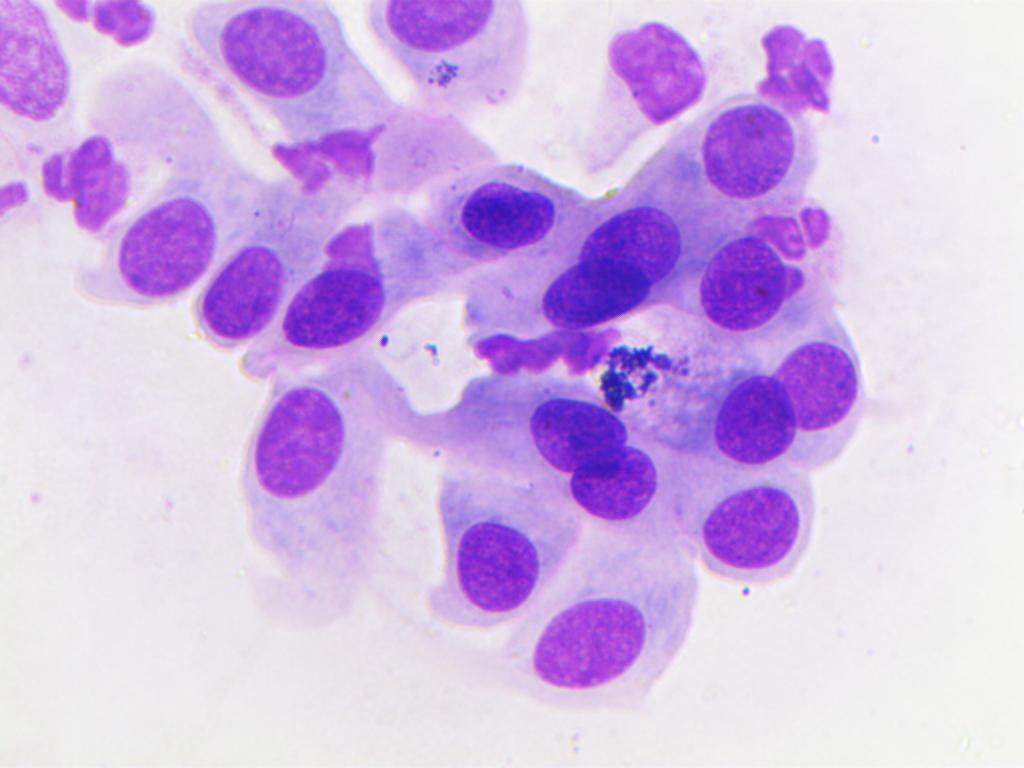artifact: (471, 314, 678, 408), (26, 138, 149, 239), (754, 22, 848, 127), (267, 127, 387, 193), (50, 0, 171, 61)
epithelial: (249, 368, 393, 589), (569, 20, 711, 175), (699, 205, 849, 340), (278, 206, 419, 348), (371, 0, 532, 123), (419, 473, 548, 626), (196, 5, 351, 115), (529, 590, 681, 699), (92, 188, 219, 306), (682, 481, 824, 586), (685, 98, 797, 205), (516, 386, 639, 480), (198, 224, 285, 350), (567, 202, 684, 288), (0, 0, 76, 127), (526, 260, 662, 326), (458, 165, 556, 253), (769, 341, 857, 434), (713, 375, 796, 472), (565, 445, 654, 529)
